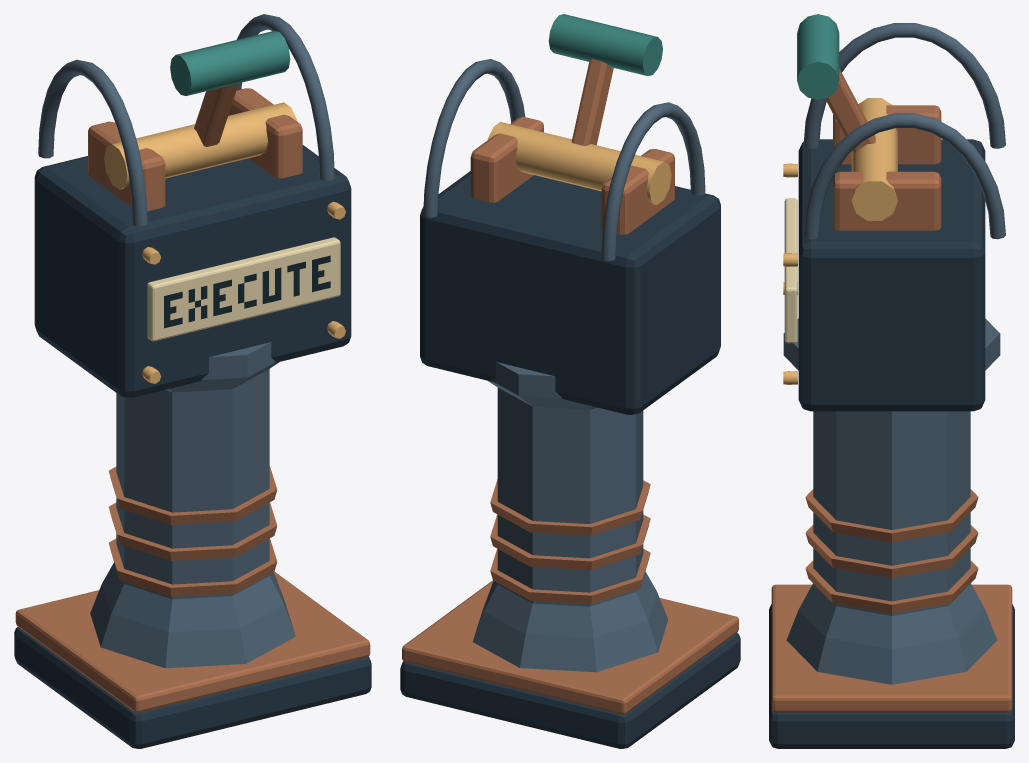
3 renders of one model, left to right at view 1: azimuth 30°, elevation 25°; view 2: azimuth 150°, elevation 25°; view 3: azimuth 270°, elevation 25°, orthographic. The views are drawn at different scales.
Parts seen in each view (by area): view 1: PR109 enamel and hardware; view 2: PR109 enamel and hardware; view 3: PR109 enamel and hardware.
Boxes of the visible parts, left/top/right/bottom form: PR109 enamel and hardware: left=14, top=14, right=371, bottom=748; PR109 enamel and hardware: left=400, top=14, right=740, bottom=748; PR109 enamel and hardware: left=769, top=14, right=1014, bottom=748.
Bounding box in the file's own units: 0.5703 × 1.5 × 0.5092.
